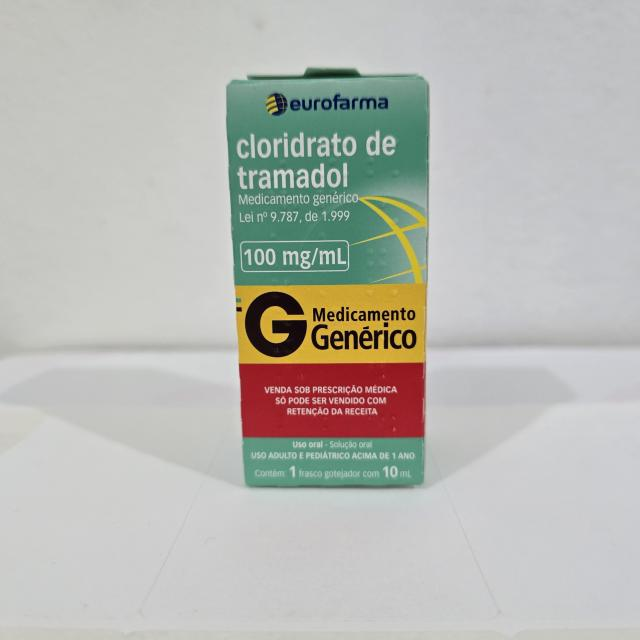tramadol: (222, 61, 433, 494)
